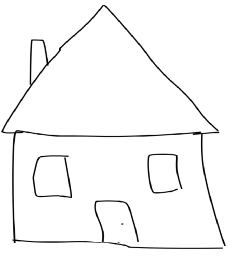big_house: (0, 0, 231, 260)
chimney: (21, 31, 62, 91)
door: (89, 190, 146, 253)
open_window: (24, 151, 84, 202), (141, 148, 189, 199)
roof: (1, 2, 225, 141)
wall: (5, 125, 227, 255)
